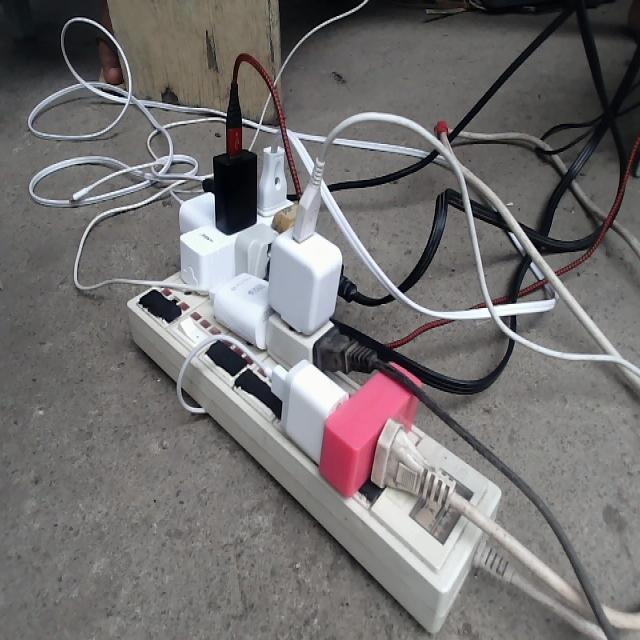-: (126, 137, 502, 639)
